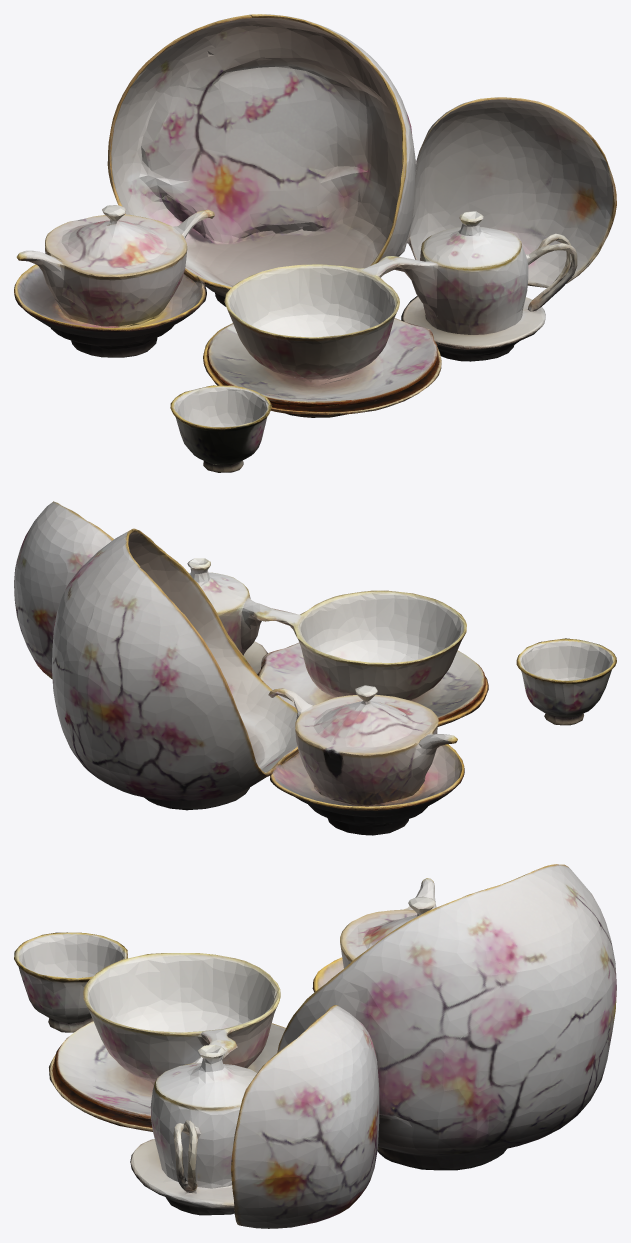
Rendered from porcelain-tableware-japanese.jpeg.glb.
The picture shows the model from 3 angles, top to bottom: view 1: azimuth 30°, elevation 25°; view 2: azimuth 150°, elevation 25°; view 3: azimuth 270°, elevation 25°; orthographic projection. The views are drawn at different scales.
Parts seen in each view (by area): view 1: world; view 2: world; view 3: world.
Boxes of the visible parts, left/top/right/bottom form: world: left=14, top=14, right=616, bottom=472; world: left=14, top=501, right=616, bottom=835; world: left=14, top=864, right=616, bottom=1228.
Size of the model in its own units: 0.9954 by 0.4629 by 0.8982.
1 material, 1 textured.
